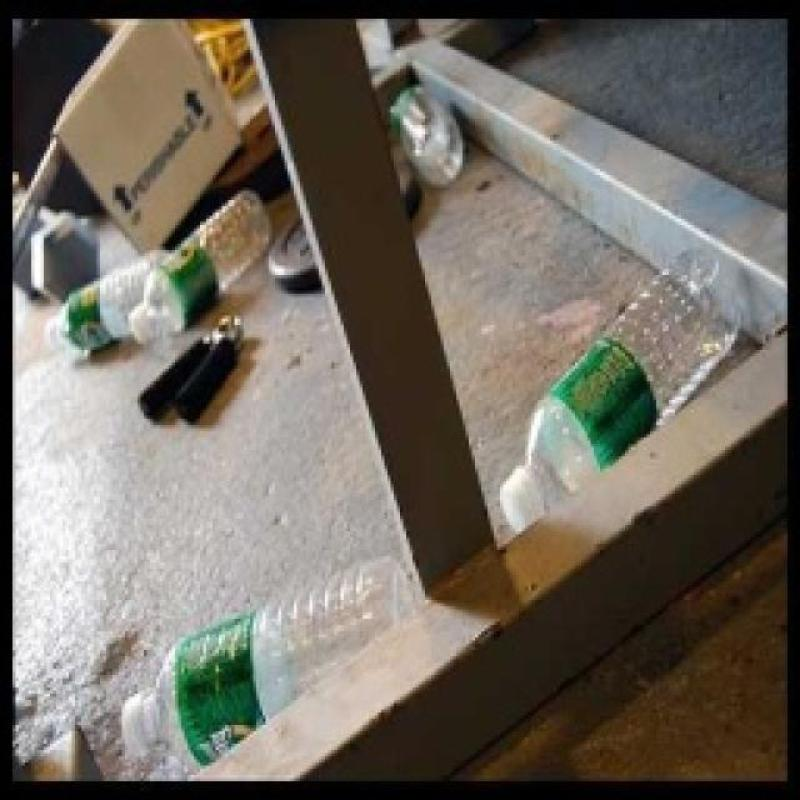botella: (502, 242, 746, 536), (122, 556, 413, 769), (128, 192, 272, 346), (47, 251, 166, 355), (382, 86, 470, 192)
